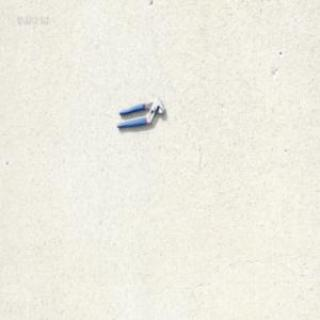Pliertrack_idkeyframe: (115, 96, 166, 130)
